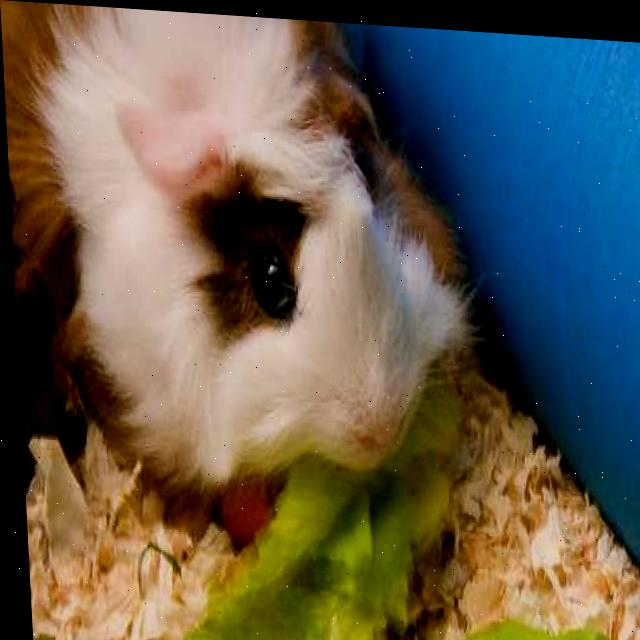guinea pig: (0, 0, 482, 502)
